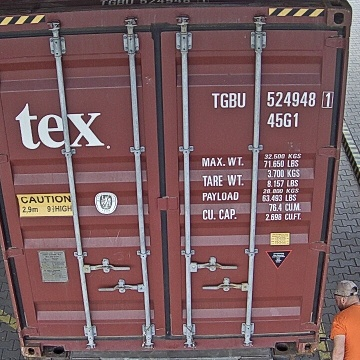serial_id: (212, 91, 333, 108)
